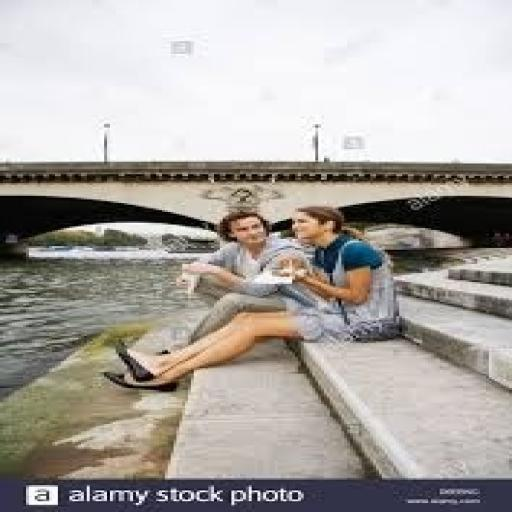sitting: (101, 203, 402, 392)
